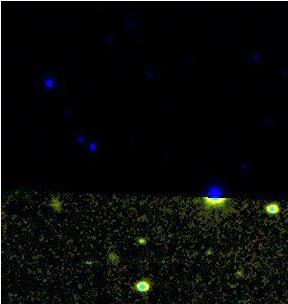star: (126, 222, 156, 252)
